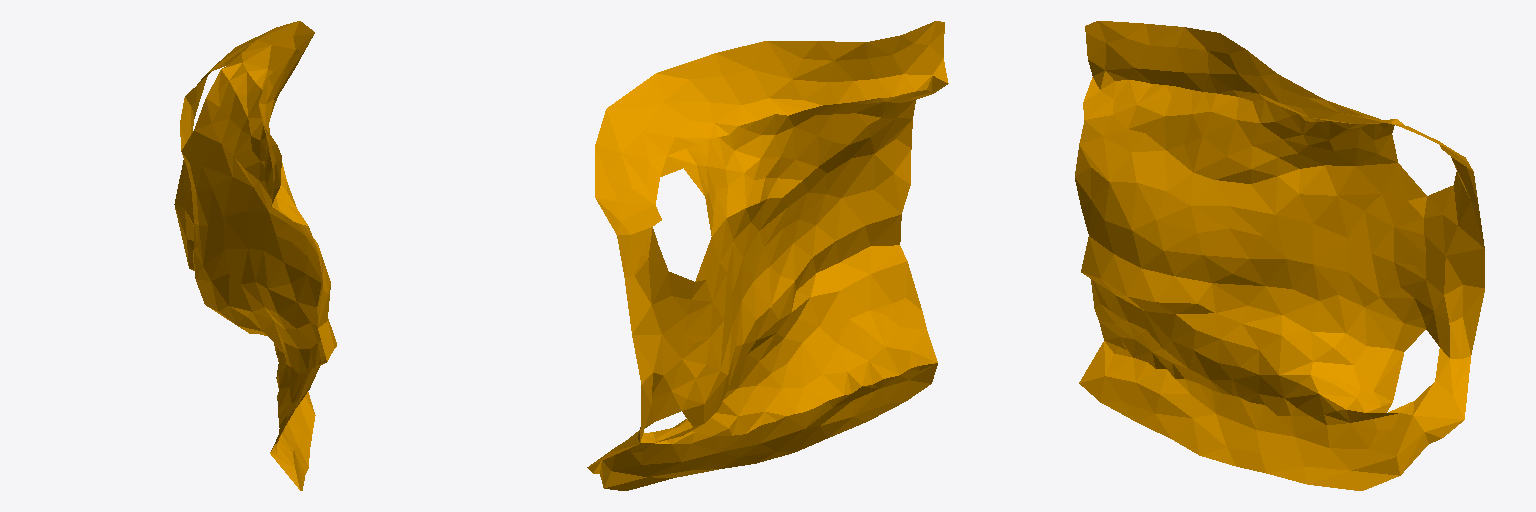
robot.urdf — init:
<?xml version='1.0' encoding='utf-8'?>
<robot name="init">
<link name="link_0"><inertial><mass value="1.0" /><origin rpy="0 0 0" xyz="0.000000 0.000000 0.000000" /><inertia ixx="1.0" ixy="0.0" ixz="0.0" iyy="1.0" iyz="0.0" izz="1.0" /></inertial><visual><origin rpy="0 0 0" xyz="0.000000 0.000000 0.000000" /><geometry><mesh filename="./clothHuman/cloth/2333.obj" /></geometry></visual><collision><origin rpy="0 0 0" xyz="0.000000 0.000000 0.000000" /><geometry><mesh filename="./clothHuman/cloth/2333.obj" /></geometry></collision></link></robot>

--- Facts derived from the render (not from the file) ---
The picture shows the robot from 3 angles, left to right: view 1: azimuth 30°, elevation 25°; view 2: azimuth 150°, elevation 25°; view 3: azimuth 270°, elevation 25°; orthographic projection.
Robot: init — 1 links, 0 joints (none); root link link_0; default pose: every joint at zero.
Visible links, largest first — view 1: link_0; view 2: link_0; view 3: link_0.
Link boxes in pixels (x1,y1,x2,y2): link_0: (174, 21, 336, 490); link_0: (587, 21, 948, 490); link_0: (1075, 21, 1484, 490).
Bounding box of the posed robot: 1.84 × 3.69 × 4.06 m (x, y, z).
Meshes: 1 distinct files referenced, 1 mesh visuals loaded (1 OBJ).